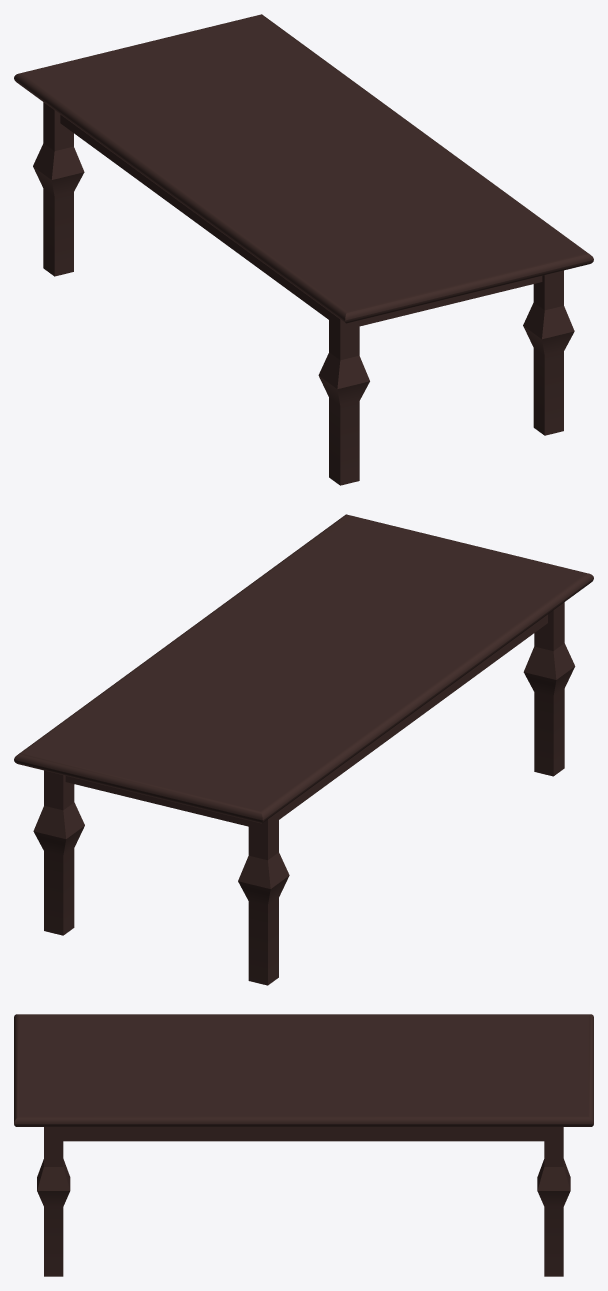
File: GrandeTable_54.fbx
The picture shows the model from 3 angles, top to bottom: view 1: azimuth 30°, elevation 25°; view 2: azimuth 150°, elevation 25°; view 3: azimuth 270°, elevation 25°; orthographic projection. The views are drawn at different scales.
Parts seen in each view (by area): view 1: pCube95, polySurface21, polySurface20, polySurface22; view 2: pCube95, polySurface22, polySurface23, polySurface21; view 3: pCube95, polySurface23, polySurface20.
Part boxes in pixels (x1,y1,x2,y2): pCube95: (14, 14, 593, 326); polySurface21: (318, 311, 369, 485); polySurface20: (523, 270, 574, 435); polySurface22: (33, 102, 84, 276); pCube95: (14, 514, 593, 826); polySurface22: (238, 811, 289, 985); polySurface23: (33, 770, 84, 935); polySurface21: (523, 602, 575, 776); pCube95: (14, 1014, 593, 1141); polySurface23: (537, 1127, 570, 1276); polySurface20: (37, 1127, 70, 1276).
Size of the model in its own units: 56.59 by 40.5 by 130.
